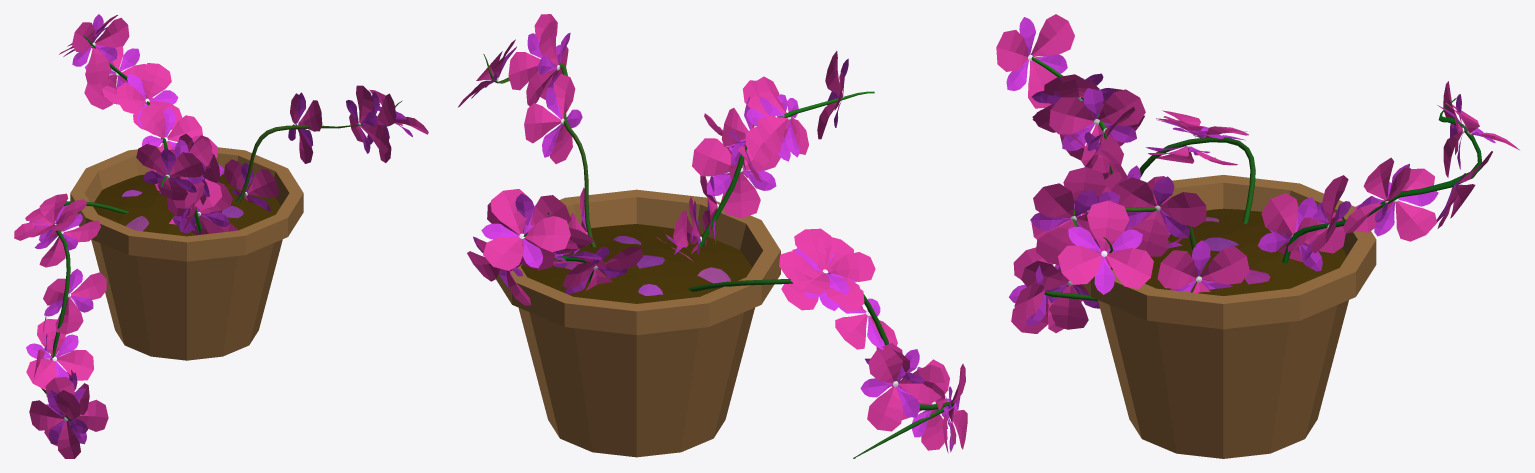
The model's file is Flower1_Frame1.fbx.
The picture shows the model from 3 angles, left to right: view 1: azimuth 30°, elevation 25°; view 2: azimuth 150°, elevation 25°; view 3: azimuth 270°, elevation 25°; orthographic projection. The views are drawn at different scales.
Visible parts, largest first — view 1: Cylinder, Circle, BézierCurve|Circle.008|Dupli|3, BézierCurve.002|Circle.008|Dupli|6, BézierCurve|Circle.008|Dupli|, BézierCurve|Circle.008|Dupli|5, BézierCurve.003|Circle.008|Dupli|, BézierCurve.002|Circle.008|Dupli|2, BézierCurve.002|Circle.008|Dupli|1, BézierCurve.001|Circle.008|Dupli|2, BézierCurve.001|Circle.008|Dupli|, BézierCurve.002|Circle.008|Dupli|4 (+13 smaller); view 2: Cylinder, Circle, BézierCurve|Circle.008|Dupli|4, BézierCurve.002|Circle.008|Dupli|5, BézierCurve.003|Circle.008|Dupli|5, BézierCurve.001|Circle.008|Dupli|1, BézierCurve|Circle.008|Dupli|7, BézierCurve.003|Circle.008|Dupli|2, BézierCurve|Circle.008|Dupli|8, BézierCurve.002|Circle.008|Dupli|, BézierCurve.001|Circle.008|Dupli|2, BézierCurve.002|Circle.008|Dupli|6 (+16 smaller); view 3: Cylinder, Circle, BézierCurve.001|Circle.008|Dupli|4, BézierCurve.003|Circle.008|Dupli|4, BézierCurve.001|Circle.008|Dupli|1, BézierCurve.003|Circle.008|Dupli|, BézierCurve.001|Circle.008|Dupli|, BézierCurve.001|Circle.008|Dupli|3, BézierCurve.002|Circle.008|Dupli|, BézierCurve.002|Circle.008|Dupli|3, BézierCurve|Circle.008|Dupli|2, BézierCurve.002|Circle.008|Dupli|2 (+17 smaller).
Boxes of the visible parts, left/top/right/bottom form: Cylinder: left=70, top=147, right=303, bottom=360; Circle: left=93, top=174, right=280, bottom=236; BézierCurve|Circle.008|Dupli|3: left=26, top=319, right=93, bottom=389; BézierCurve.002|Circle.008|Dupli|6: left=72, top=14, right=129, bottom=84; BézierCurve|Circle.008|Dupli|: left=29, top=390, right=88, bottom=458; BézierCurve|Circle.008|Dupli|5: left=43, top=268, right=106, bottom=334; BézierCurve.003|Circle.008|Dupli|: left=136, top=144, right=204, bottom=200; BézierCurve.002|Circle.008|Dupli|2: left=116, top=63, right=182, bottom=129; BézierCurve.002|Circle.008|Dupli|1: left=139, top=103, right=202, bottom=152; BézierCurve.001|Circle.008|Dupli|2: left=346, top=85, right=388, bottom=153; BézierCurve.001|Circle.008|Dupli|: left=224, top=159, right=279, bottom=211; BézierCurve.002|Circle.008|Dupli|4: left=84, top=44, right=145, bottom=109; Cylinder: left=496, top=189, right=780, bottom=457; Circle: left=521, top=224, right=752, bottom=303; BézierCurve|Circle.008|Dupli|4: left=860, top=343, right=944, bottom=431; BézierCurve.002|Circle.008|Dupli|5: left=481, top=189, right=570, bottom=270; BézierCurve.003|Circle.008|Dupli|5: left=692, top=138, right=780, bottom=218; BézierCurve.001|Circle.008|Dupli|1: left=524, top=74, right=582, bottom=163; BézierCurve|Circle.008|Dupli|7: left=791, top=228, right=875, bottom=295; BézierCurve.003|Circle.008|Dupli|2: left=757, top=76, right=808, bottom=157; BézierCurve|Circle.008|Dupli|8: left=779, top=237, right=861, bottom=304; BézierCurve.002|Circle.008|Dupli|: left=562, top=246, right=642, bottom=294; BézierCurve.001|Circle.008|Dupli|2: left=526, top=21, right=570, bottom=106; BézierCurve.002|Circle.008|Dupli|6: left=487, top=193, right=571, bottom=270; Cylinder: left=1083, top=175, right=1376, bottom=458; Circle: left=1110, top=208, right=1346, bottom=295; BézierCurve.001|Circle.008|Dupli|4: left=1058, top=200, right=1153, bottom=294; BézierCurve.003|Circle.008|Dupli|4: left=1049, top=88, right=1145, bottom=173; BézierCurve.001|Circle.008|Dupli|1: left=1114, top=176, right=1206, bottom=256; BézierCurve.003|Circle.008|Dupli|: left=996, top=14, right=1074, bottom=108; BézierCurve.001|Circle.008|Dupli|: left=1157, top=240, right=1249, bottom=293; BézierCurve.001|Circle.008|Dupli|3: left=1030, top=183, right=1113, bottom=264; BézierCurve.002|Circle.008|Dupli|: left=1257, top=193, right=1345, bottom=271; BézierCurve.002|Circle.008|Dupli|3: left=1353, top=168, right=1438, bottom=241; BézierCurve|Circle.008|Dupli|2: left=1021, top=260, right=1099, bottom=329; BézierCurve.002|Circle.008|Dupli|2: left=1343, top=157, right=1410, bottom=233.
Bounding box in the file's own units: 4.36 × 3.1 × 3.88.
